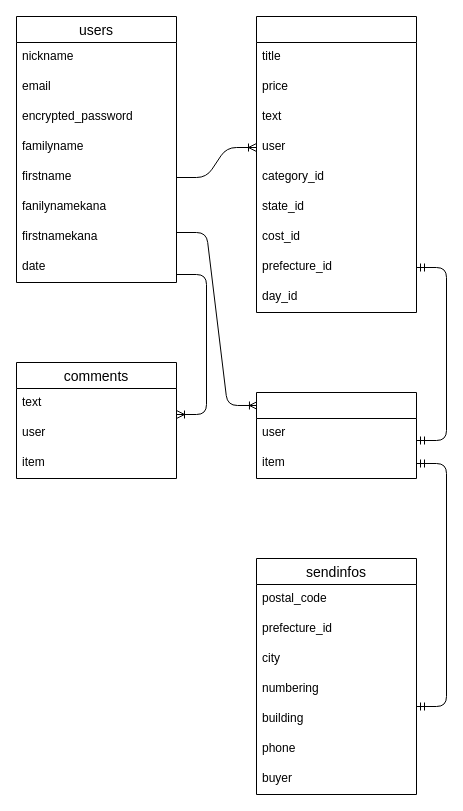
Image size: 463x811. Some labels were removed from this diagram. The box of each missing label's shape, as (x1, y1, x2, y2) in pixels:
buyers: (256, 392, 416, 478)
items: (256, 16, 416, 312)
